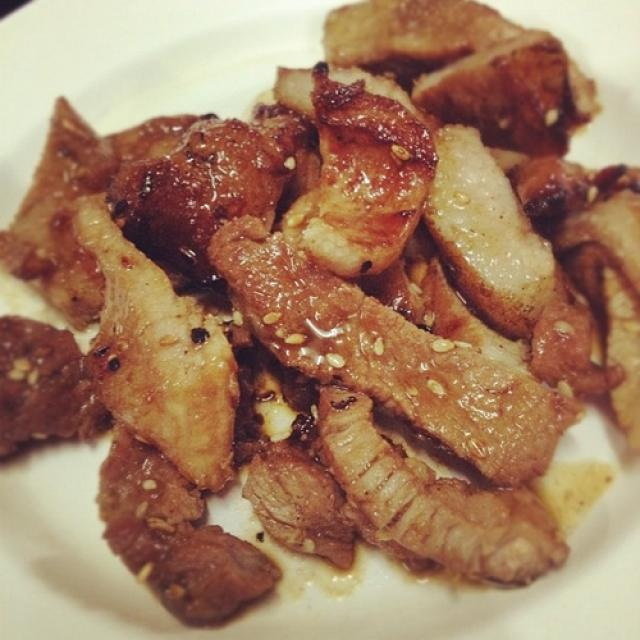猪肉菜式: (18, 10, 627, 621)
